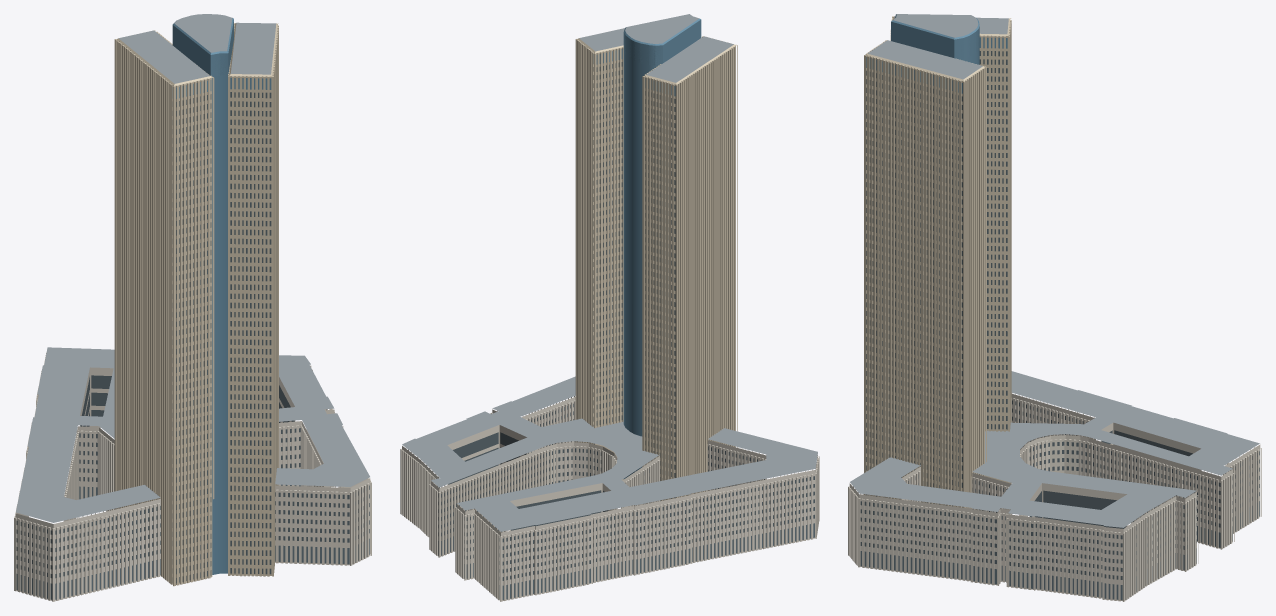
File: frankfurt-tower-185.detail.glb
The picture shows the model from 3 angles, left to right: view 1: azimuth 30°, elevation 25°; view 2: azimuth 150°, elevation 25°; view 3: azimuth 270°, elevation 25°; orthographic projection. The views are drawn at different scales.
Visible parts, largest first — view 1: Tower 185; view 2: Tower 185; view 3: Tower 185.
Boxes of the visible parts, x1,y1,x2,y2 form: Tower 185: (14, 14, 371, 601); Tower 185: (400, 14, 819, 601); Tower 185: (848, 14, 1261, 601).
Bounding box in the file's own units: 153 × 200 × 153.
